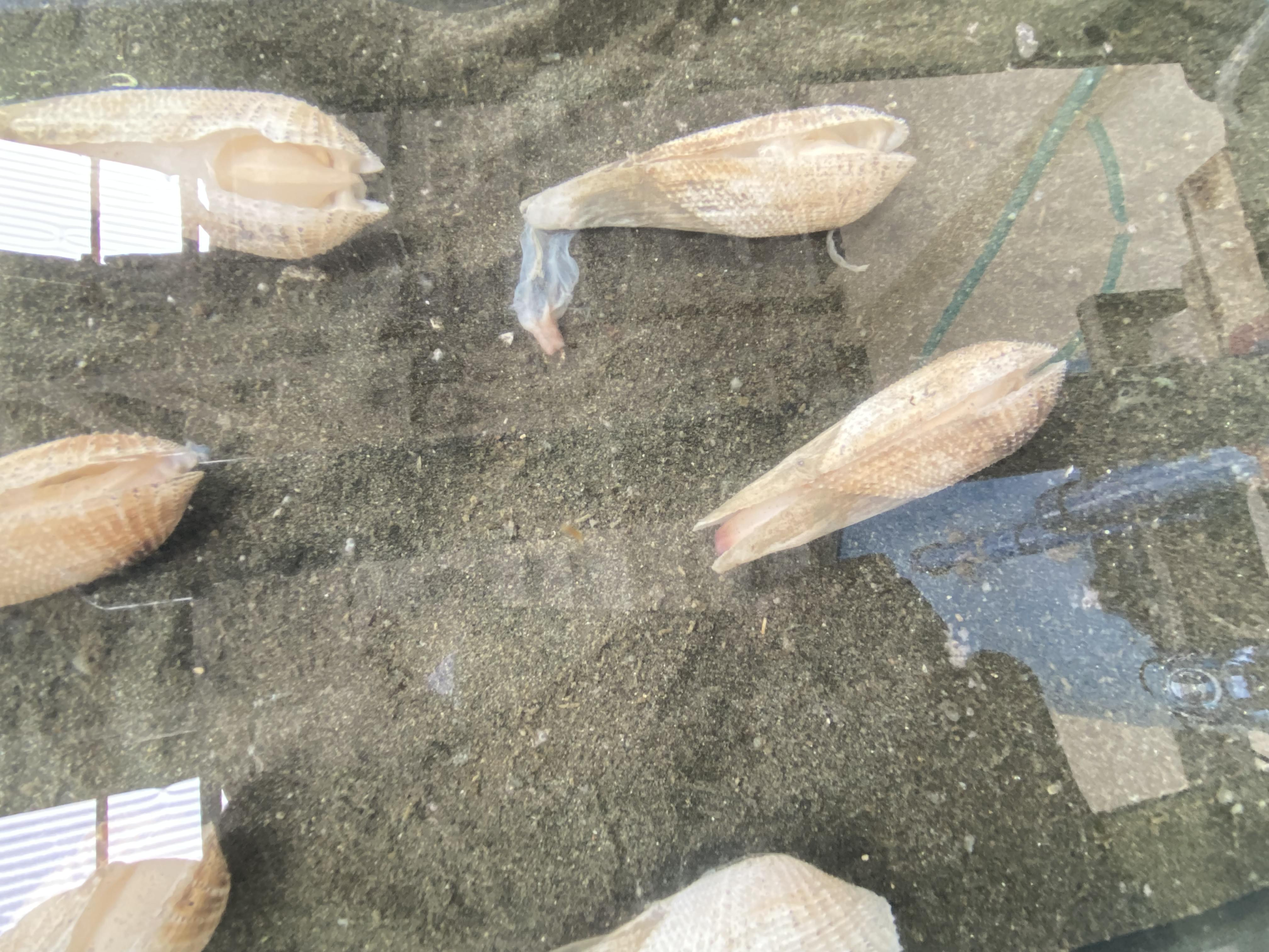At risk: (512, 104, 914, 355), (697, 341, 1064, 573), (0, 88, 388, 259), (0, 432, 207, 607), (559, 854, 902, 952), (0, 823, 231, 952)
